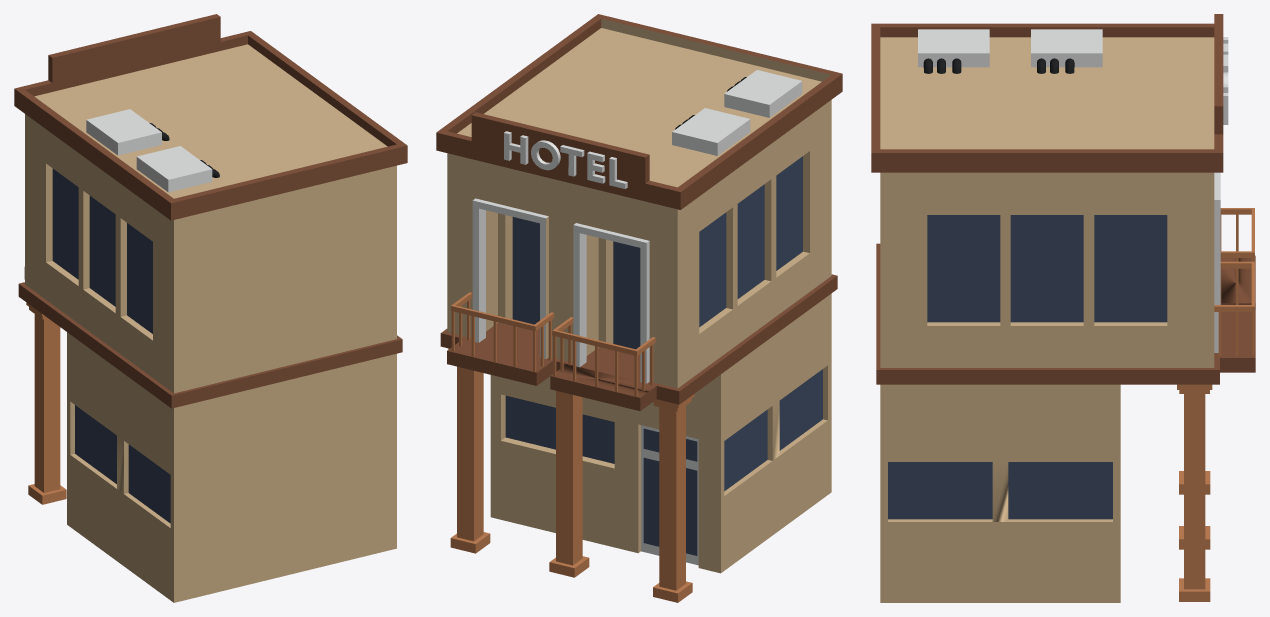
File: hotel.fbx
3 views of the same model, side by side, from view 1: azimuth 30°, elevation 25°; view 2: azimuth 150°, elevation 25°; view 3: azimuth 270°, elevation 25° (orthographic). The views are drawn at different scales.
Visible parts, largest first — view 1: hotel; view 2: hotel; view 3: hotel.
Part boxes in pixels (left/top/right/bottom): hotel: left=14, top=14, right=407, bottom=602; hotel: left=436, top=14, right=842, bottom=602; hotel: left=871, top=14, right=1255, bottom=602.
Bounding box in the file's own units: 713 × 1236 × 893.
